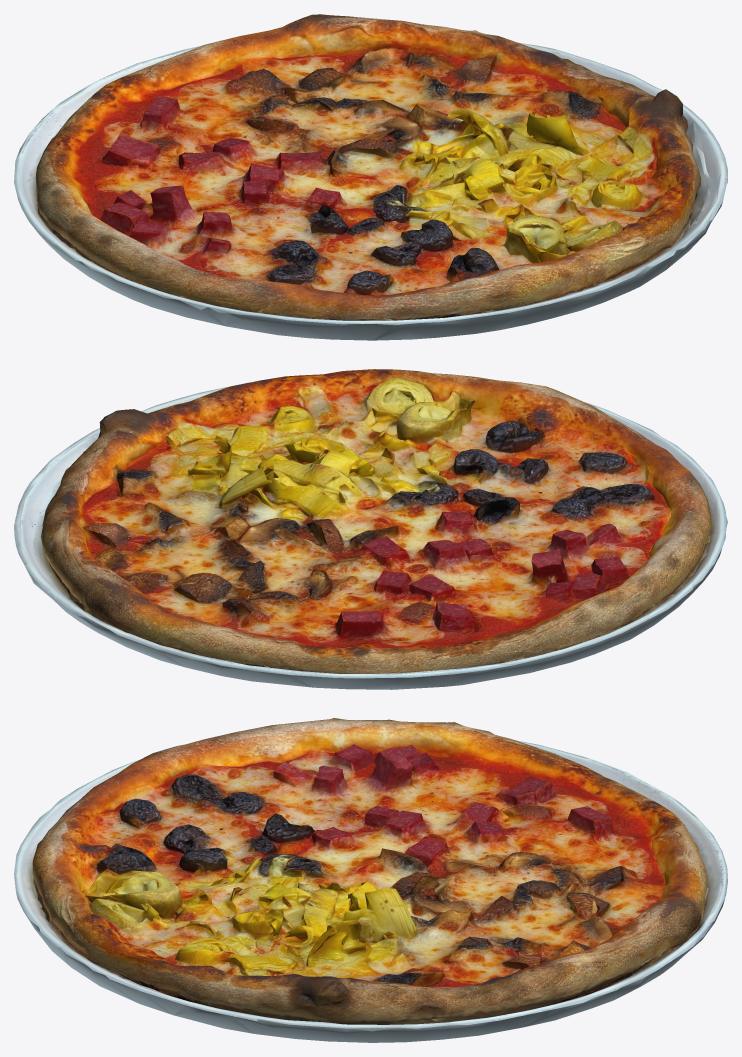
The picture shows the model from 3 angles, top to bottom: view 1: azimuth 30°, elevation 25°; view 2: azimuth 150°, elevation 25°; view 3: azimuth 270°, elevation 25°; orthographic projection.
Parts seen in each view (by area): view 1: object.004; view 2: object.004; view 3: object.004.
Part boxes in pixels (box(x1,y1,x2,y2)): object.004: box(14, 14, 727, 340); object.004: box(14, 369, 727, 689); object.004: box(14, 718, 727, 1042).
Bounding box in the file's own units: 0.3223 × 0.0322 × 0.3223.
Materials: 1 (1 with a texture image).
